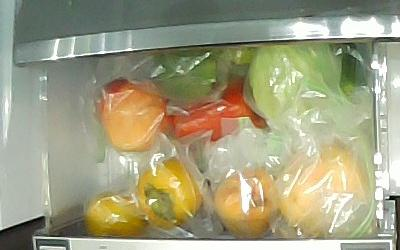apple_vinyl: (99, 77, 165, 151)
broccoli_vinyl: (150, 46, 253, 100)
grapefruit_vinyl: (278, 143, 371, 234)
lettuce_vinyl: (248, 42, 342, 120)
paprika_vinyl: (174, 79, 269, 144)
peach_vinyl: (213, 166, 278, 234)
persimmon_vinyl: (138, 162, 203, 228), (84, 192, 149, 237)
